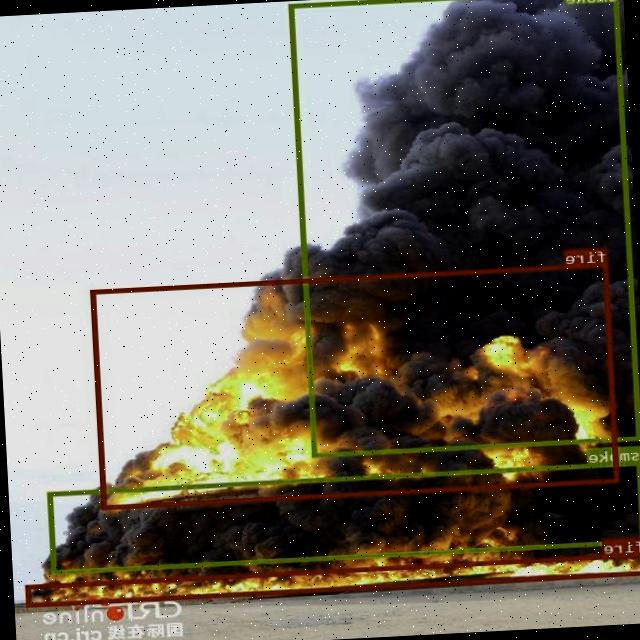fire: (92, 262, 620, 509), (27, 551, 640, 606)
smoke: (290, 0, 640, 456), (49, 460, 640, 574)
